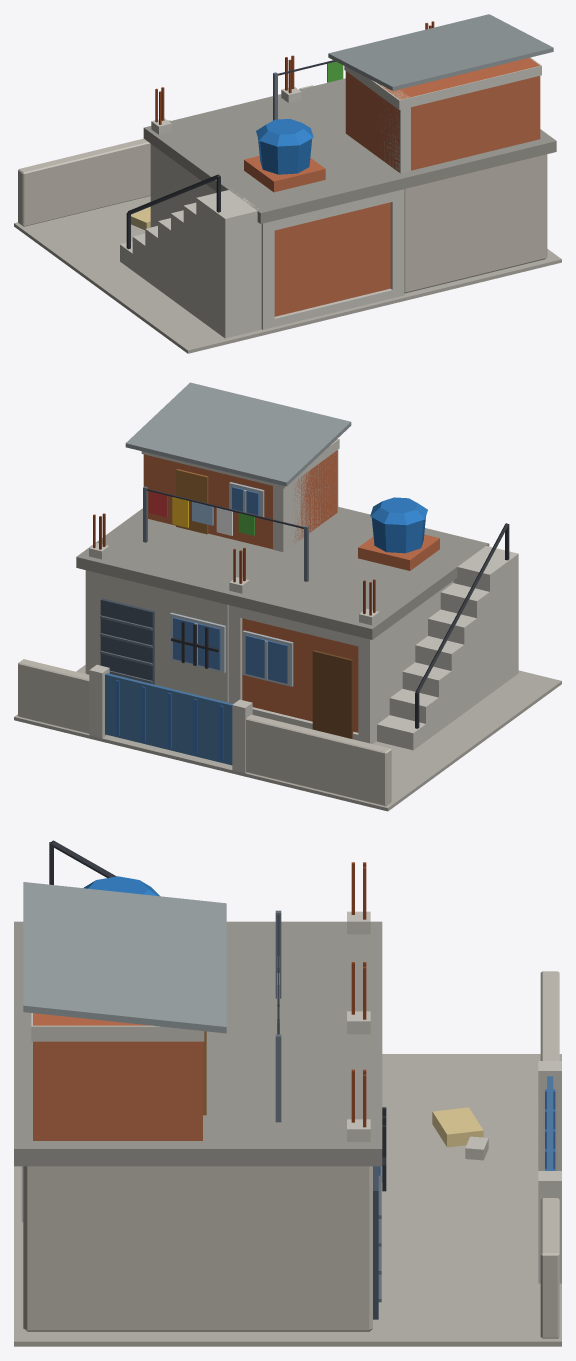
The model's file is casa_laje.glb.
3 renders of one model, top to bottom at view 1: azimuth 30°, elevation 25°; view 2: azimuth 150°, elevation 25°; view 3: azimuth 270°, elevation 25°, orthographic. The views are drawn at different scales.
Visible parts, largest first — view 1: corpo; view 2: corpo; view 3: corpo.
Part boxes in pixels (x1,y1,x2,y2): corpo: (14, 14, 561, 353); corpo: (14, 382, 561, 811); corpo: (14, 840, 561, 1346).
Bounding box in the file's own units: 1.44 × 0.787 × 1.16.
